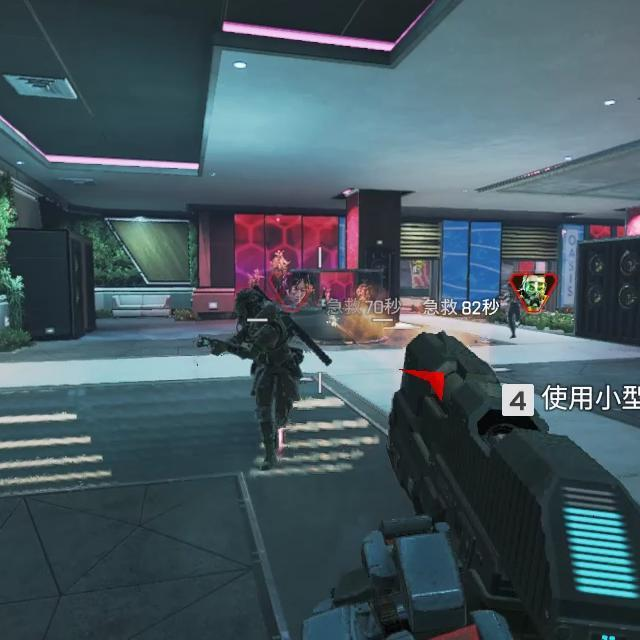avatar: (232, 287, 305, 467)
